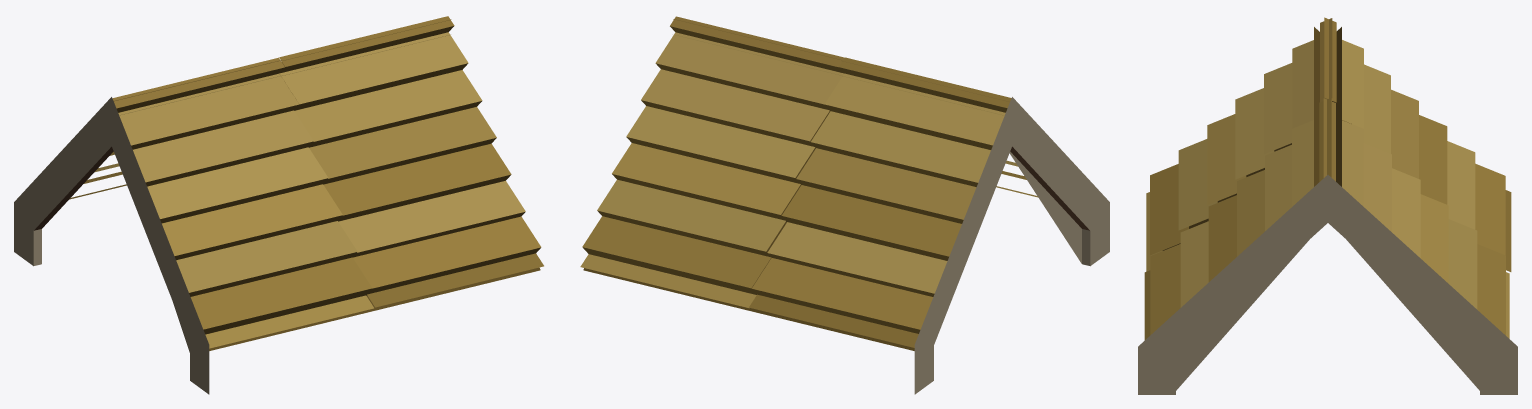
The model's file is roof-high-gable-top-thatch.glb.
3 renders of one model, left to right at view 1: azimuth 30°, elevation 25°; view 2: azimuth 150°, elevation 25°; view 3: azimuth 270°, elevation 25°, orthographic. The views are drawn at different scales.
Parts seen in each view (by area): view 1: roof-high-gable-top-thatch; view 2: roof-high-gable-top-thatch; view 3: roof-high-gable-top-thatch.
Part boxes in pixels (left/top/right/bottom): roof-high-gable-top-thatch: left=14, top=16, right=543, bottom=394; roof-high-gable-top-thatch: left=580, top=16, right=1109, bottom=394; roof-high-gable-top-thatch: left=1138, top=17, right=1517, bottom=394.
Size of the model in its own units: 1 by 0.6407 by 1.
